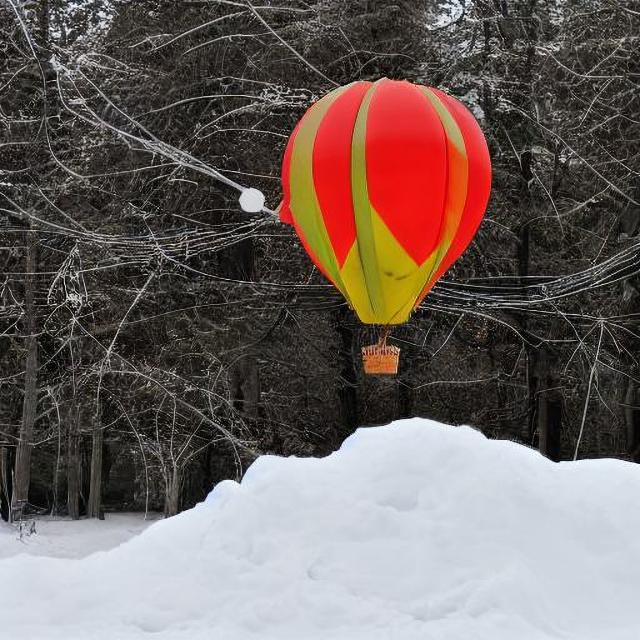balloon: (273, 70, 489, 330)
